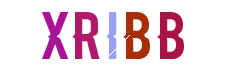B: (96, 0, 176, 80), (129, 0, 209, 80)
I: (71, 0, 151, 80)
R: (69, 0, 149, 80)
X: (34, 0, 114, 80)
